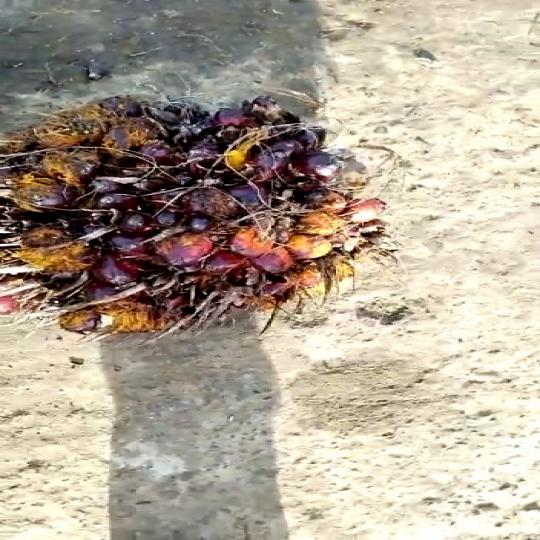masak: (0, 95, 404, 340)
